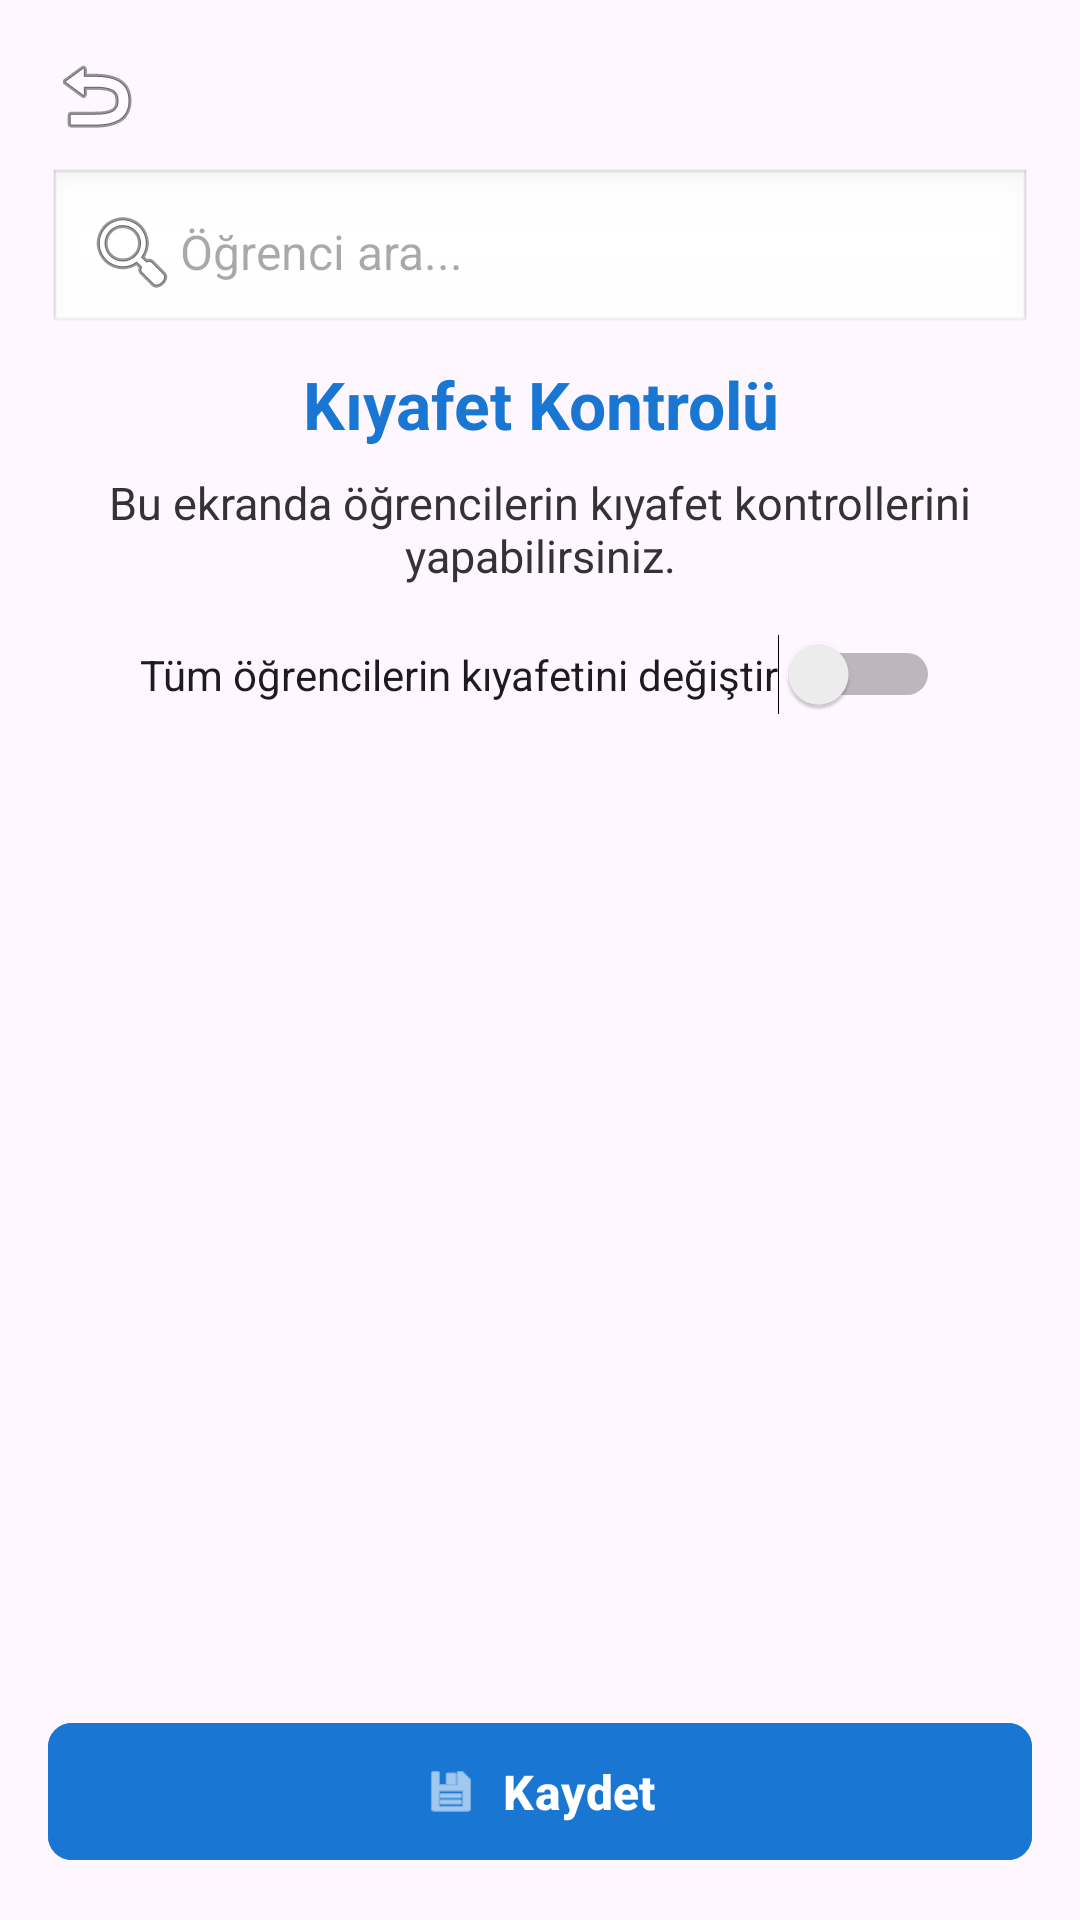

Locate icon controls on the screen. Image size 1080px x 1920px, boxes as (x1, y1, x2, y2).
Geri: (63, 65, 132, 128)
